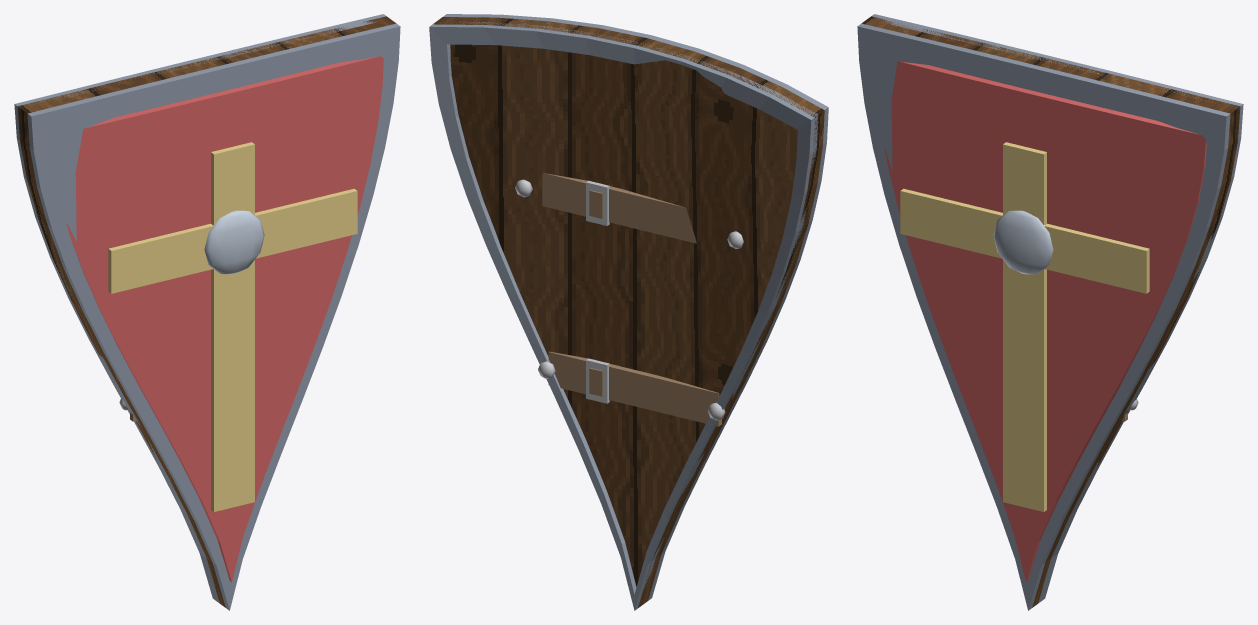
Rendered from Shield_Heater.gltf.
3 renders of one model, left to right at view 1: azimuth 30°, elevation 25°; view 2: azimuth 150°, elevation 25°; view 3: azimuth 330°, elevation 25°, orthographic. The views are drawn at different scales.
Parts seen in each view (by area): view 1: Shield_Heater; view 2: Shield_Heater; view 3: Shield_Heater.
Part boxes in pixels (bbox=[...]): Shield_Heater: bbox=[14, 14, 400, 610]; Shield_Heater: bbox=[429, 14, 828, 610]; Shield_Heater: bbox=[857, 14, 1243, 610].
Bounding box in the file's own units: 0.54 × 0.76 × 0.101.
Materials: 7 (1 with a texture image).
